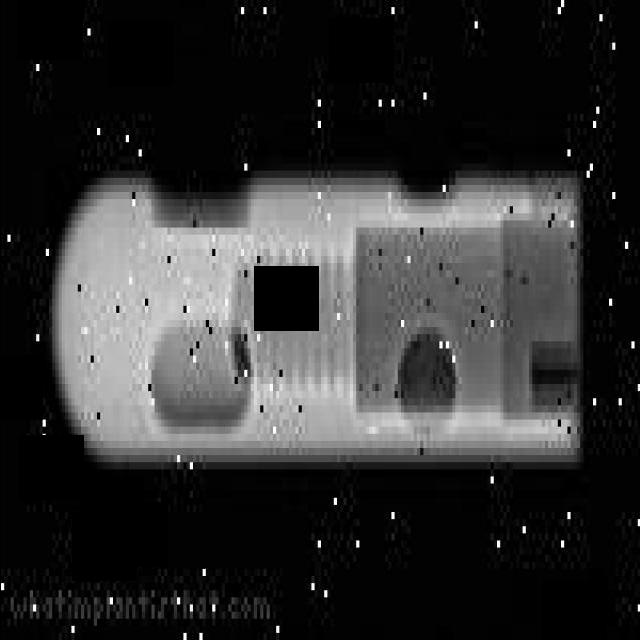Root canal obturation: (43, 170, 579, 482)
